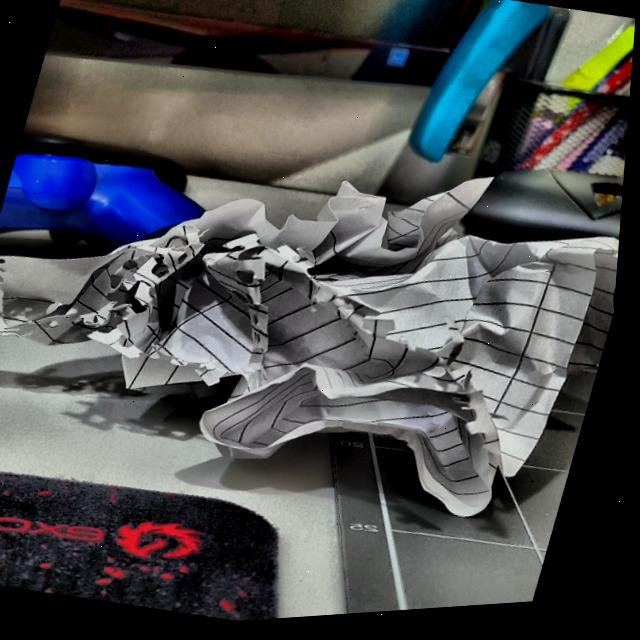paper: (0, 128, 631, 556)
